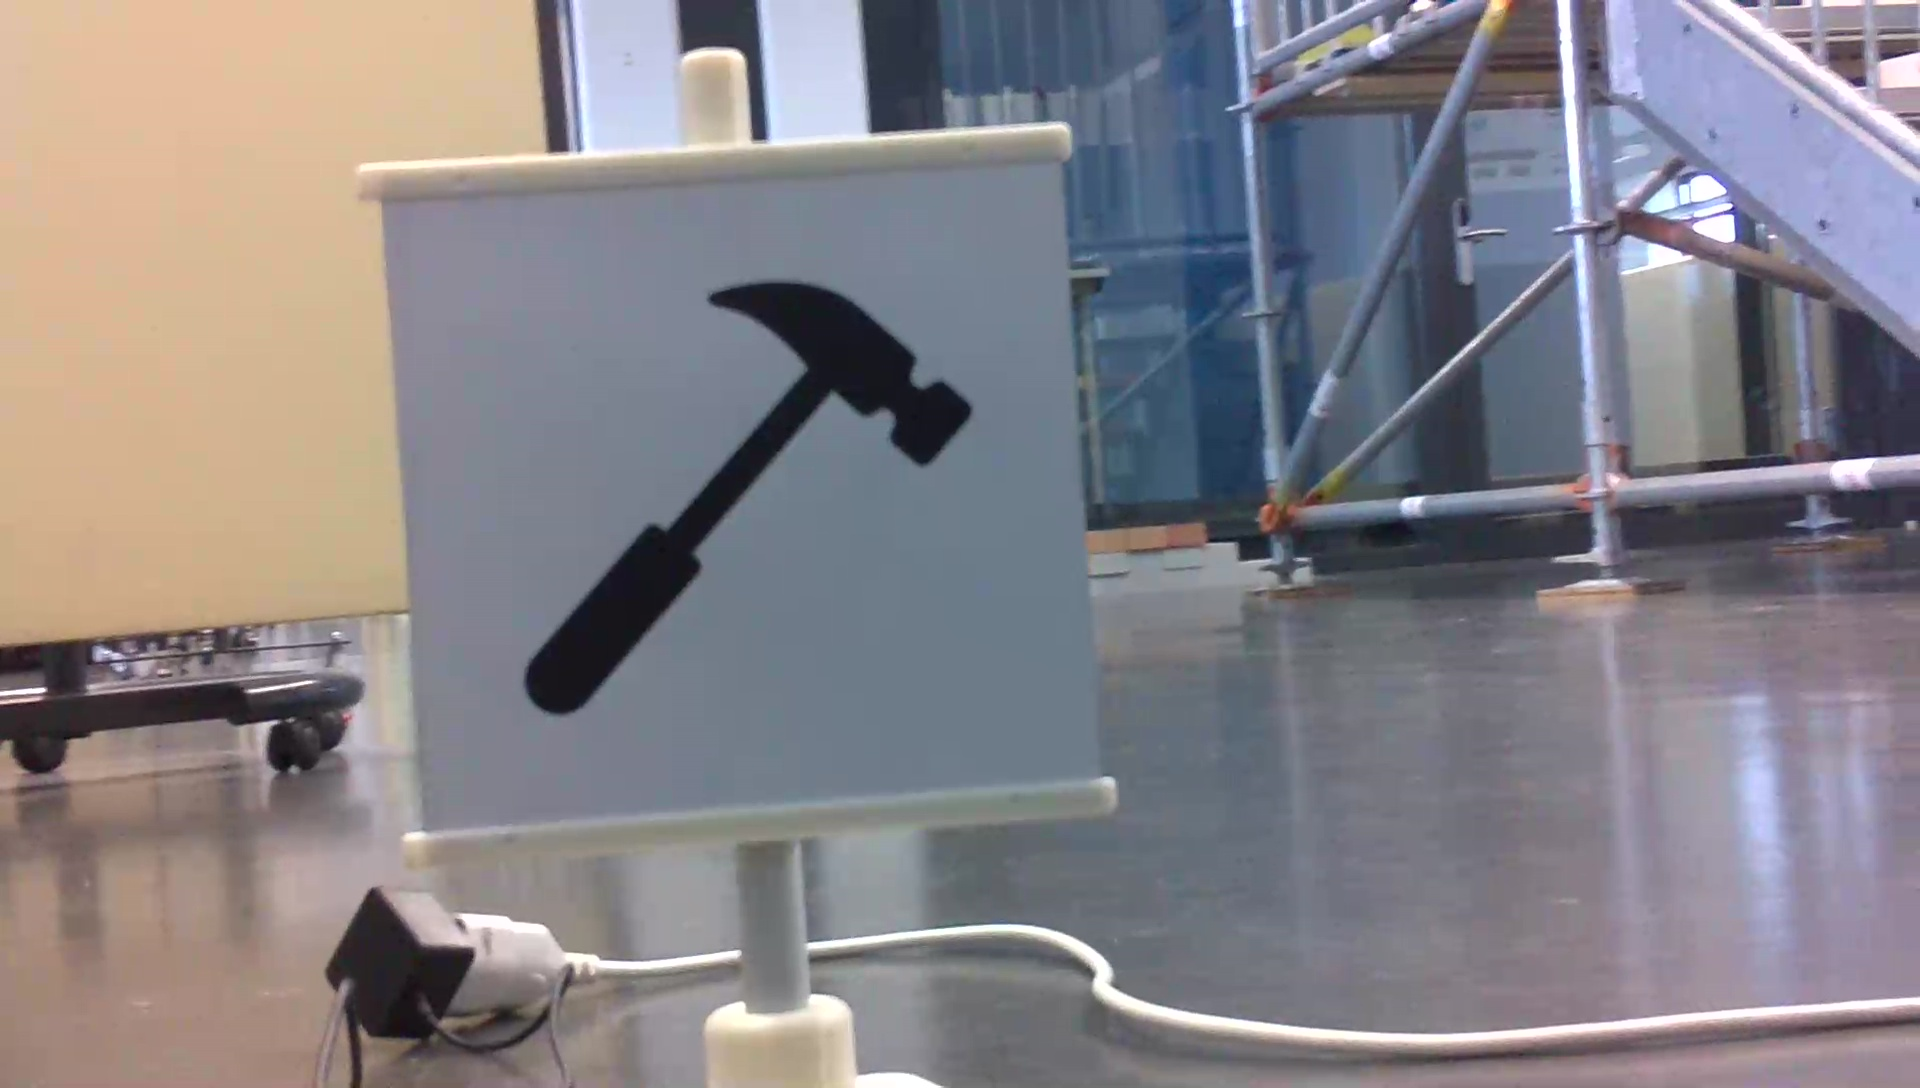hammer: (512, 268, 982, 723)
